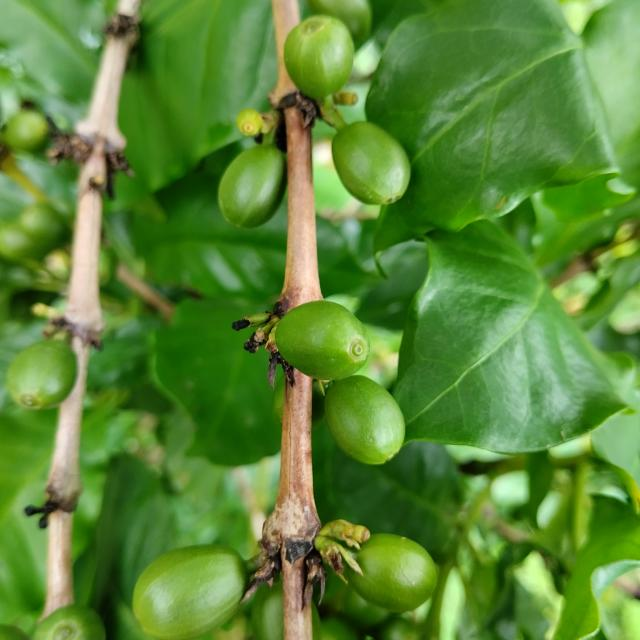green: (132, 545, 248, 640), (275, 300, 370, 381), (325, 376, 406, 465), (348, 534, 438, 614), (332, 121, 411, 204), (284, 14, 354, 98), (218, 143, 285, 228)
